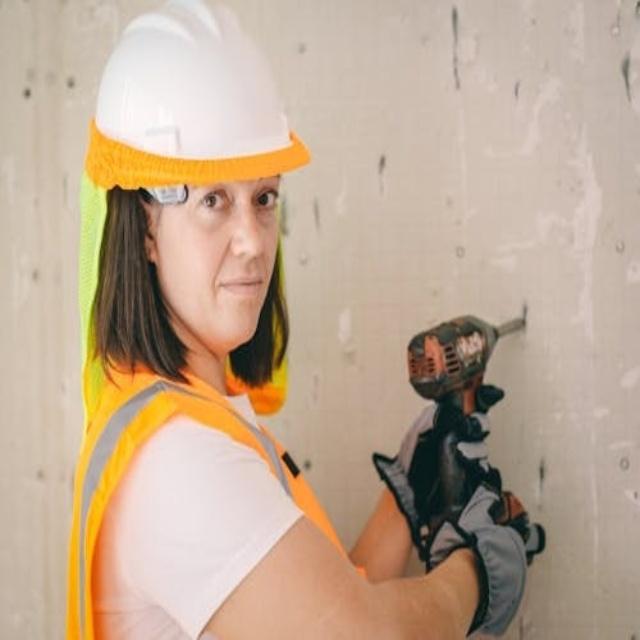Guantes: (372, 388, 541, 639)
Sin_gafas: (183, 177, 285, 229)
Sin_mascara: (205, 265, 266, 326)
